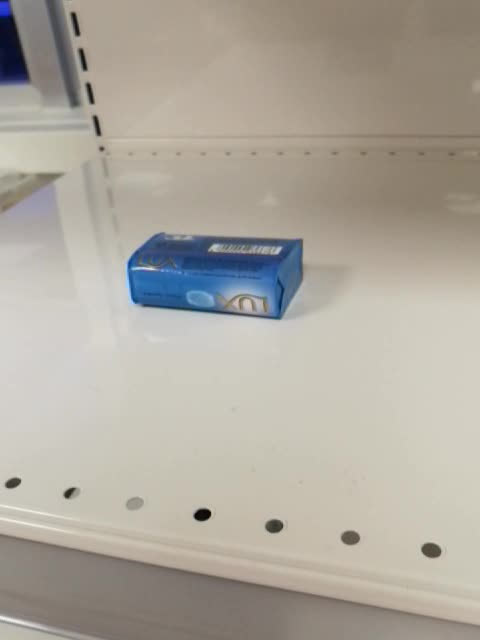soap: (126, 229, 306, 323)
